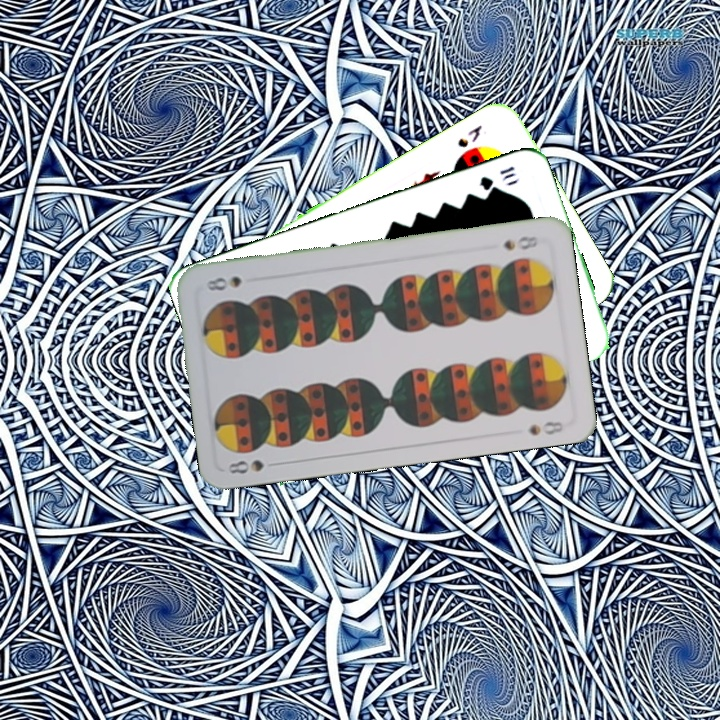G10: (475, 162, 517, 193)
S8: (224, 455, 283, 477), (499, 232, 540, 253)
SK: (453, 120, 485, 151)
